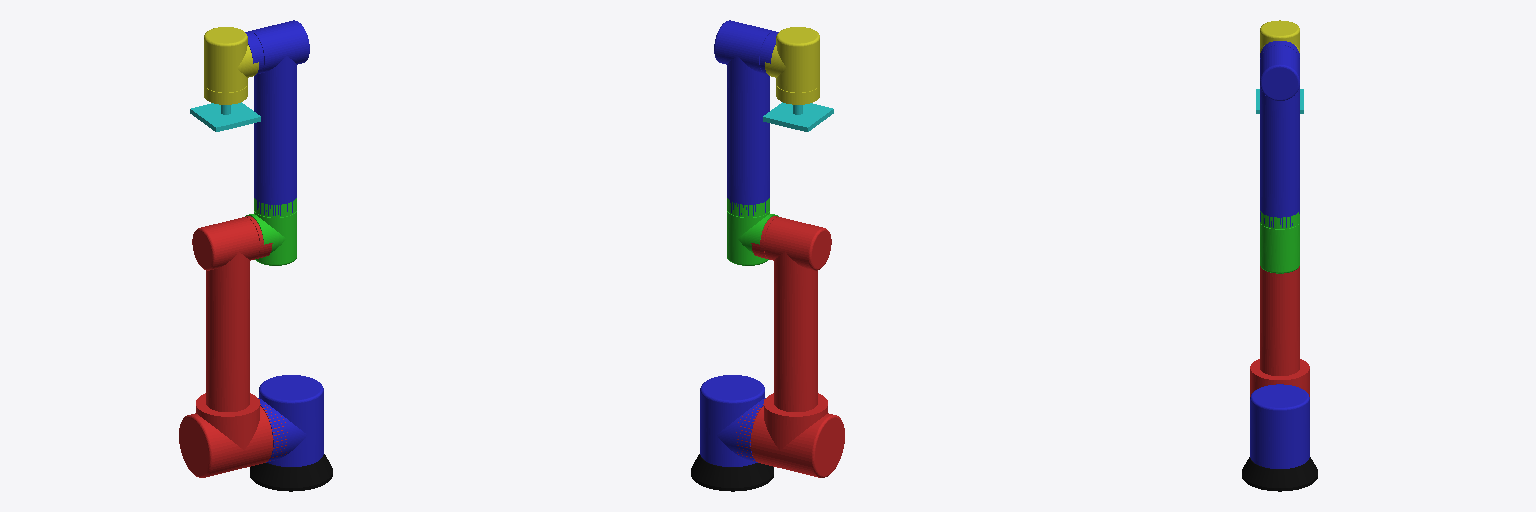
robot.urdf — lynx_ses900:
<?xml version="1.0"?>
<robot name="lynx_ses900">

  <!-- Base Link -->
  <link name="base_link">
    <visual>
      <geometry>
        <mesh filename="package://URDF_description/meshes/base_link.stl" scale="0.001 0.001 0.001"/>
      </geometry>
      <material name="base_material">
        <color rgba="0.1 0.1 0.1 1.0"/>
      </material>
    </visual>
    <collision>
      <geometry>
        <mesh filename="package://URDF_description/meshes/base_link.stl" scale="0.001 0.001 0.001"/>
      </geometry>
    </collision>
    <inertial>
      <mass value="1.5"/>
      <origin xyz="0 0 0" rpy="0 0 0"/>
      <inertia ixx="0.01" ixy="0.0" ixz="0.0" iyy="0.01" iyz="0.0" izz="0.008"/>
    </inertial>
  </link>

  <!-- Shoulder Link -->
  <link name="shoulder_link">
    <visual>
      <geometry>
        <mesh filename="package://URDF_description/meshes/link1.stl" scale="0.001 0.001 0.001"/>
      </geometry>
      <material name="shoulder_material">
        <color rgba="0.2 0.2 0.8 1.0"/>
      </material>
    </visual>
    <collision>
      <geometry>
        <mesh filename="package://URDF_description/meshes/link1.stl" scale="0.001 0.001 0.001"/>
      </geometry>
    </collision>
    <inertial>
      <mass value="0.8"/>
      <origin xyz="0 0 0" rpy="0 0 0"/>
      <inertia ixx="0.005" ixy="0.0" ixz="0.0" iyy="0.005" iyz="0.0" izz="0.003"/>
    </inertial>
  </link>

  <!-- Upper Arm Link -->
  <link name="upper_arm_link">
    <visual>
      <geometry>
        <mesh filename="package://URDF_description/meshes/link2.stl" scale="0.001 0.001 0.001"/>
      </geometry>
      <material name="upper_arm_material">
        <color rgba="0.8 0.2 0.2 1.0"/>
      </material>
    </visual>
    <collision>
      <geometry>
        <mesh filename="package://URDF_description/meshes/link2.stl" scale="0.001 0.001 0.001"/>
      </geometry>
    </collision>
    <inertial>
      <mass value="0.6"/>
      <origin xyz="0.2 0 0" rpy="0 0 0"/>
      <inertia ixx="0.003" ixy="0.0" ixz="0.0" iyy="0.003" iyz="0.0" izz="0.002"/>
    </inertial>
  </link>

  <!-- Forearm Link -->
  <link name="forearm_link">
    <visual>
      <geometry>
        <mesh filename="package://URDF_description/meshes/link3.stl" scale="0.001 0.001 0.001"/>
      </geometry>
      <material name="forearm_material">
        <color rgba="0.2 0.8 0.2 1.0"/>
      </material>
    </visual>
    <collision>
      <geometry>
        <mesh filename="package://URDF_description/meshes/link3.stl" scale="0.001 0.001 0.001"/>
      </geometry>
    </collision>
    <inertial>
      <mass value="0.4"/>
      <origin xyz="0 0 0" rpy="0 0 0"/>
      <inertia ixx="0.002" ixy="0.0" ixz="0.0" iyy="0.002" iyz="0.0" izz="0.001"/>
    </inertial>
  </link>

  <!-- Wrist Link -->
  <link name="wrist_link">
    <visual>
      <geometry>
        <mesh filename="package://URDF_description/meshes/link4.stl" scale="0.001 0.001 0.001"/>
      </geometry>
      <material name="wrist_material">
        <color rgba="0.2 0.2 0.8 1.0"/>
      </material>
    </visual>
    <collision>
      <geometry>
        <mesh filename="package://URDF_description/meshes/link4.stl" scale="0.001 0.001 0.001"/>
      </geometry>
    </collision>
    <inertial>
      <mass value="0.3"/>
      <origin xyz="0 0 0" rpy="0 0 0"/>
      <inertia ixx="0.001" ixy="0.0" ixz="0.0" iyy="0.001" iyz="0.0" izz="0.001"/>
    </inertial>
  </link>

  <!-- Hand Link -->
  <link name="hand_link">
    <visual>
      <geometry>
        <mesh filename="package://URDF_description/meshes/link5.stl" scale="0.001 0.001 0.001"/>
      </geometry>
      <material name="hand_material">
        <color rgba="0.8 0.8 0.2 1.0"/>
      </material>
    </visual>
    <collision>
      <geometry>
        <mesh filename="package://URDF_description/meshes/link5.stl" scale="0.001 0.001 0.001"/>
      </geometry>
    </collision>
    <inertial>
      <mass value="0.2"/>
      <origin xyz="0 0 0.4" rpy="0 0 0"/>
      <inertia ixx="0.0005" ixy="0.0" ixz="0.0" iyy="0.0005" iyz="0.0" izz="0.0005"/>
    </inertial>
  </link>

  <!-- Tool Link -->
  <link name="tool_link">
    <visual>
      <geometry>
        <mesh filename="package://URDF_description/meshes/link6.stl" scale="0.001 0.001 0.001"/>
      </geometry>
      <material name="tool_material">
        <color rgba="0.2 0.8 0.8 1.0"/>
      </material>
    </visual>
    <collision>
      <geometry>
        <mesh filename="package://URDF_description/meshes/link6.stl" scale="0.001 0.001 0.001"/>
      </geometry>
    </collision>
    <inertial>
      <mass value="0.1"/>
      <origin xyz="0 0 0" rpy="0 0 0"/>
      <inertia ixx="0.0002" ixy="0.0" ixz="0.0" iyy="0.0002" iyz="0.0" izz="0.0002"/>
    </inertial>
  </link>

  <!-- Base to Shoulder Joint -->
  <joint name="joint_1" type="revolute">
    <parent link="base_link"/>
    <child link="shoulder_link"/>
    <origin xyz="0 0 0" rpy="0 0 0"/>
    <axis xyz="0 0 1"/>
    <limit lower="-2.967" upper="2.967" effort="50" velocity="1.5"/>
    <dynamics damping="0.1" friction="0.1"/>
  </joint>

  <!-- Shoulder to Upper Arm Joint -->
  <joint name="joint_2" type="revolute">
    <parent link="shoulder_link"/>
    <child link="upper_arm_link"/>
    <origin xyz="-0.04 0 0.1" rpy="0 0 0"/>
    <axis xyz="1 0 0"/>
    <limit lower="-2.0" upper="2.0" effort="50" velocity="1.5"/>
    <dynamics damping="0.1" friction="0.1"/>
  </joint>

  <!-- Upper Arm to Forearm Joint -->
  <joint name="joint_3" type="revolute">
    <parent link="upper_arm_link"/>
    <child link="forearm_link"/>
    <origin xyz="-0.045 0 0.415" rpy="0 0 3.1416"/> <!-- 180° autour de Z -->
    <axis xyz="1 0 0"/>
    <limit lower="-2.0" upper="2.0" effort="40" velocity="1.5"/>
    <dynamics damping="0.1" friction="0.1"/>
  </joint>

  <!-- Forearm to Wrist Joint -->
  <joint name="joint_4" type="revolute">
    <parent link="forearm_link"/>
    <child link="wrist_link"/>
    <origin xyz="-0.05 0 0.05" rpy="0 0 3.1416"/>
    <axis xyz="0 0 1"/>
    <limit lower="-2.0" upper="2.0" effort="30" velocity="1.5"/>
    <dynamics damping="0.1" friction="0.1"/>
  </joint>

  <!-- Wrist to Hand Joint -->
  <joint name="joint_5" type="revolute">
    <parent link="wrist_link"/>
    <child link="hand_link"/>
    <origin xyz="-0.06 0 0.335" rpy="0 0 0"/>
    <axis xyz="1 0 0"/>
    <limit lower="-2.0" upper="2.0" effort="20" velocity="1.5"/>
    <dynamics damping="0.1" friction="0.1"/>
  </joint>

  <!-- Hand to Tool Joint -->
  <joint name="joint_6" type="revolute">
    <parent link="hand_link"/>
    <child link="tool_link"/>
    <origin xyz="-0.05 0 -0.07" rpy="0 0 0"/>
    <axis xyz="0 0 1"/>
    <limit lower="-3.1416" upper="3.1416" effort="10" velocity="2.0"/>
    <dynamics damping="0.1" friction="0.1"/>
  </joint>

  <!-- TCP Link pour MoveIt -->
  <link name="tcp"/>

  <!-- Tool to TCP Joint -->
  <joint name="tool_to_tcp" type="fixed">
    <parent link="tool_link"/>
    <child link="tcp"/>
    <origin xyz="0 0 -0.05" rpy="0 0 0"/>
  </joint>

</robot>

--- Facts derived from the render (not from the file) ---
The picture shows the robot from 3 angles, left to right: view 1: azimuth 30°, elevation 25°; view 2: azimuth 150°, elevation 25°; view 3: azimuth 270°, elevation 25°; orthographic projection.
Model lynx_ses900 with 8 links and 7 joints (6 revolute, 1 fixed), rooted at base_link, posed every joint at zero.
Links seen in each view (by area): view 1: upper_arm_link, wrist_link, shoulder_link, hand_link, forearm_link, base_link, tool_link; view 2: upper_arm_link, wrist_link, shoulder_link, hand_link, forearm_link, base_link, tool_link; view 3: wrist_link, upper_arm_link, shoulder_link, forearm_link, base_link, hand_link.
Link boxes in pixels (x1=…): upper_arm_link: x1=179, y1=216, x2=287, y2=477; wrist_link: x1=245, y1=20, x2=309, y2=215; shoulder_link: x1=258, y1=375, x2=323, y2=466; hand_link: x1=204, y1=27, x2=258, y2=104; forearm_link: x1=245, y1=198, x2=296, y2=265; base_link: x1=250, y1=454, x2=332, y2=491; tool_link: x1=190, y1=102, x2=260, y2=131; upper_arm_link: x1=736, y1=216, x2=844, y2=477; wrist_link: x1=714, y1=20, x2=778, y2=215; shoulder_link: x1=700, y1=375, x2=765, y2=466; hand_link: x1=765, y1=27, x2=819, y2=104; forearm_link: x1=727, y1=198, x2=778, y2=265; base_link: x1=691, y1=454, x2=773, y2=491; tool_link: x1=763, y1=102, x2=833, y2=131; wrist_link: x1=1260, y1=41, x2=1299, y2=227; upper_arm_link: x1=1250, y1=266, x2=1309, y2=396; shoulder_link: x1=1250, y1=384, x2=1309, y2=468; forearm_link: x1=1260, y1=211, x2=1299, y2=273; base_link: x1=1242, y1=457, x2=1317, y2=491; hand_link: x1=1260, y1=20, x2=1299, y2=52.
Size in the robot's own frame: 0.2951 by 0.16 by 0.9608 metres.
Meshes: 7 distinct files referenced, 7 mesh visuals loaded (7 binary STL).
